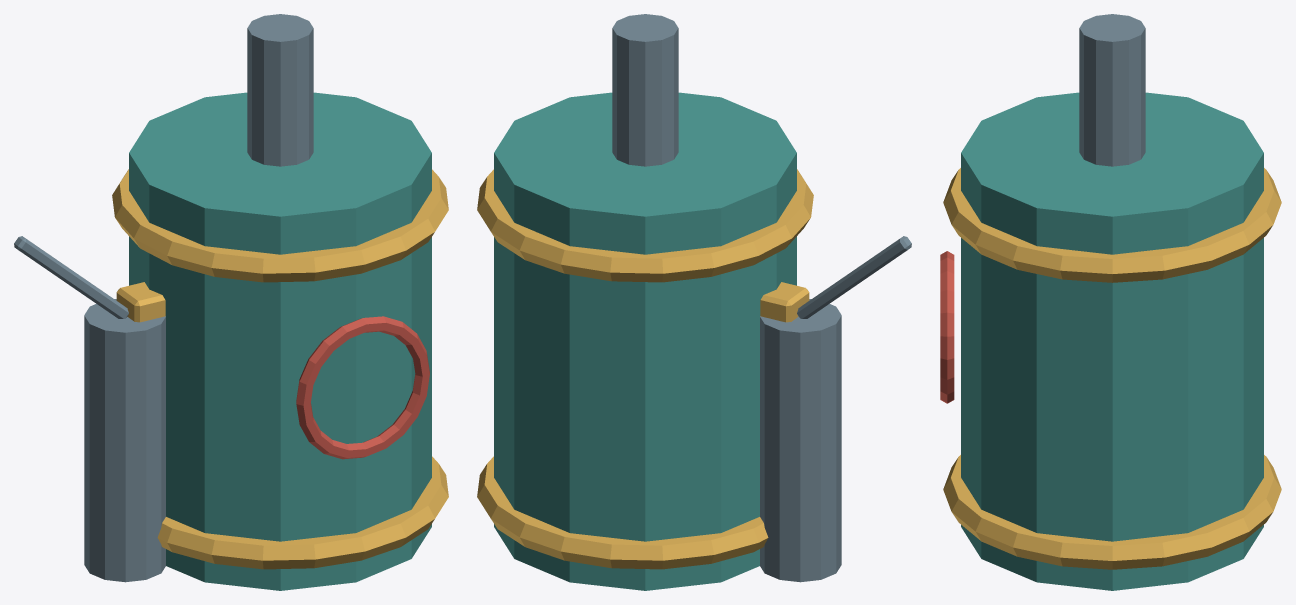
Rendered from equipment-pump.lod0.glb.
The picture shows the model from 3 angles, left to right: view 1: azimuth 30°, elevation 25°; view 2: azimuth 150°, elevation 25°; view 3: azimuth 270°, elevation 25°; orthographic projection.
Parts seen in each view (by area): view 1: equipment-pump__body, equipment-pump__valve, equipment-pump__handle; view 2: equipment-pump__body, equipment-pump__handle; view 3: equipment-pump__body, equipment-pump__valve.
Part boxes in pixels (x1,y1,x2,y2): equipment-pump__body: (84, 14, 448, 590); equipment-pump__valve: (296, 316, 429, 459); equipment-pump__handle: (14, 236, 128, 318); equipment-pump__body: (477, 14, 841, 590); equipment-pump__handle: (797, 236, 911, 318); equipment-pump__body: (943, 14, 1281, 590); equipment-pump__valve: (940, 251, 954, 403).
Size of the model in its own units: 1.72 by 2 by 1.24.
